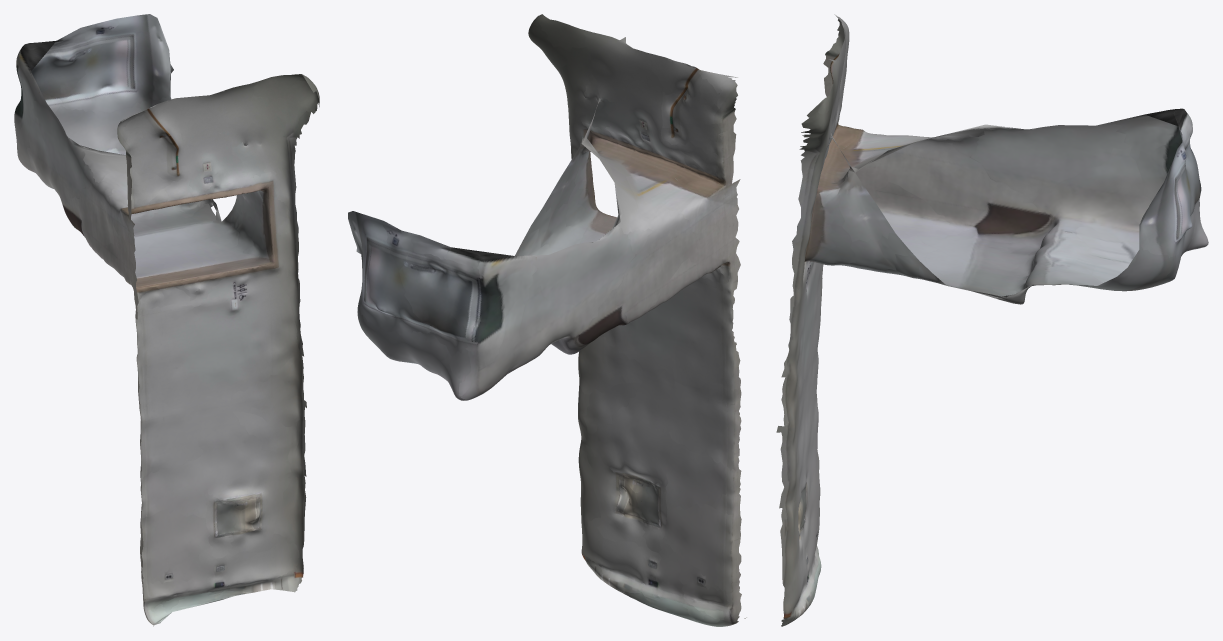
File: 화장실.fbx
The picture shows the model from 3 angles, left to right: view 1: azimuth 30°, elevation 25°; view 2: azimuth 150°, elevation 25°; view 3: azimuth 270°, elevation 25°; orthographic projection. The views are drawn at different scales.
Visible parts, largest first — view 1: Untitled; view 2: Untitled; view 3: Untitled.
Boxes of the visible parts, bbox=[...] form: Untitled: bbox=[14, 14, 319, 626]; Untitled: bbox=[348, 14, 746, 626]; Untitled: bbox=[776, 14, 1208, 626].
Size of the model in its own units: 75 by 185 by 132.
1 material, 1 textured.
